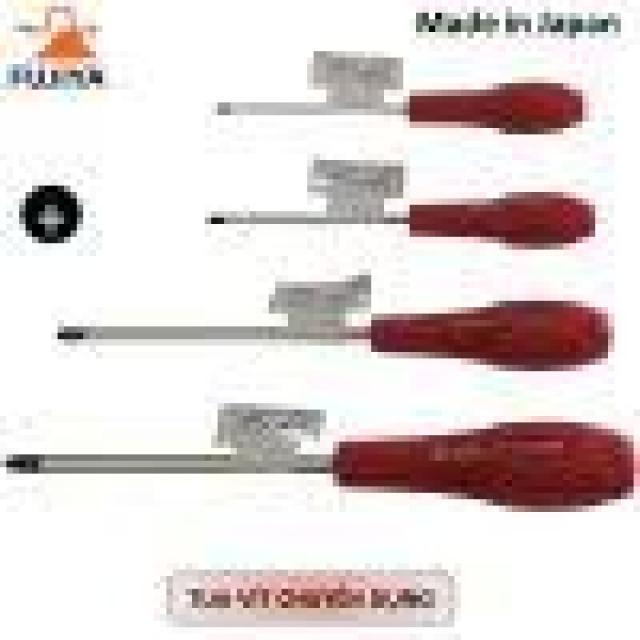screwdriver: (0, 419, 640, 515), (42, 298, 618, 374), (202, 189, 598, 253), (208, 76, 592, 134)
